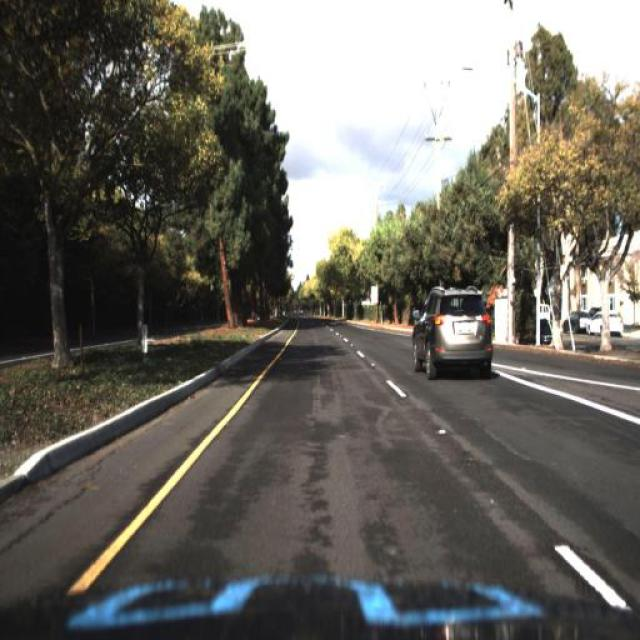car: (410, 283, 494, 382), (585, 295, 627, 334), (587, 309, 622, 337)
